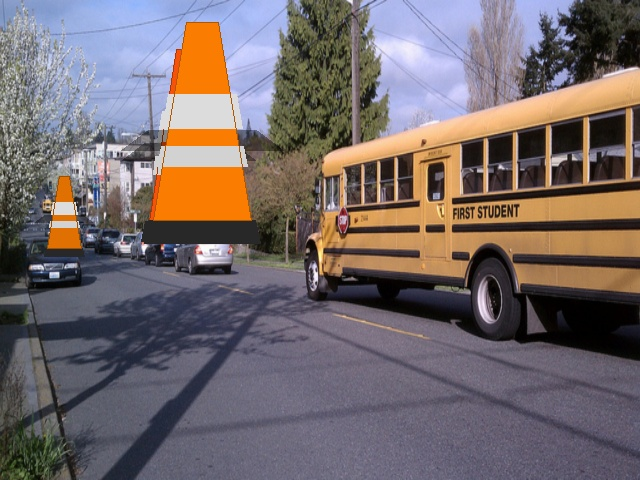traffic-cone: (144, 22, 260, 243), (141, 49, 237, 241), (44, 176, 84, 256)
